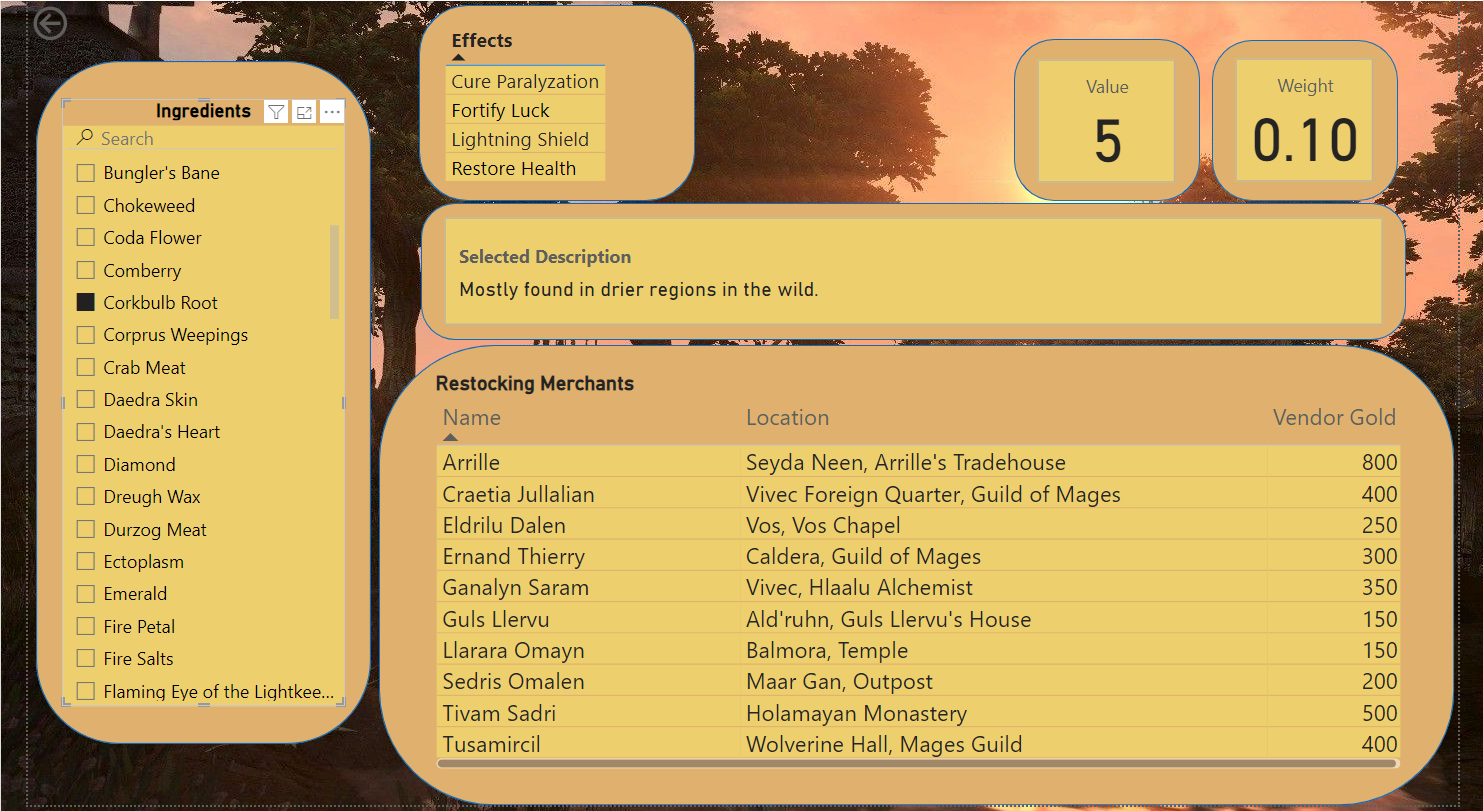

What the dashboard file says about the page in this screenshot:
{"tool":"powerbi","page":{"name":"Ingredient Search","canvas":[1280,720],"ordinal":0},"visuals":[{"type":"shape","box":[1060.3,34.9,166.6,144.2],"z":500},{"type":"shape","box":[883,34,166.6,145.1],"z":1000},{"type":"shape","box":[350.1,3.6,247.2,175.5],"z":2000},{"type":"shape","box":[351.9,180.9,882.1,122.7],"z":3000},{"type":"shape","box":[313.9,307.7,963,412.3],"z":4000},{"type":"shape","box":[7.2,53.7,300,611.6],"z":5000},{"type":"slicer","title":"Ingredients","fields":{"Values":["ingredients.name"]},"box":[30.4,87.8,253.4,543.6],"z":6000},{"type":"tableEx","fields":{"Values":["effects.effect_name"]},"box":[368.1,16.1,214.9,150.4],"z":7000},{"type":"cardVisual","fields":{"Data":["ingredients.Selected Value"]},"box":[899.1,47.5,133.4,120],"z":8000},{"type":"cardVisual","fields":{"Data":["ingredients.Selected weight"]},"box":[1076.4,46.6,133.4,120],"z":9000},{"type":"cardVisual","fields":{"Data":["ingredients.Selected Description"]},"box":[368.1,189,850.7,106.6],"z":10000},{"type":"tableEx","title":"Restocking Merchants","fields":{"Values":["merchants.name","merchants.location","merchants.vendor_gold"]},"box":[360,331.6,874.3,360.9],"z":11000},{"type":"actionButton","box":[0,0,100,40],"z":12000}]}

Visuals, with their boxes in screenshot pixels (x1, y1, x2, y2), scaled from the page's 1280x720 canvas onto the 1483x811 screenshot:
shape: pyautogui.locateOnScreen(1228, 39, 1421, 202)
shape: pyautogui.locateOnScreen(1023, 38, 1216, 202)
shape: pyautogui.locateOnScreen(406, 4, 692, 202)
shape: pyautogui.locateOnScreen(408, 204, 1430, 342)
shape: pyautogui.locateOnScreen(364, 347, 1479, 810)
shape: pyautogui.locateOnScreen(8, 60, 356, 749)
"Ingredients" slicer: pyautogui.locateOnScreen(35, 99, 329, 711)
tableEx - effects.effect_name: pyautogui.locateOnScreen(426, 18, 675, 188)
cardVisual - ingredients.Selected Value: pyautogui.locateOnScreen(1042, 54, 1196, 189)
cardVisual - ingredients.Selected weight: pyautogui.locateOnScreen(1247, 52, 1402, 188)
cardVisual - ingredients.Selected Description: pyautogui.locateOnScreen(426, 213, 1412, 333)
"Restocking Merchants" tableEx: pyautogui.locateOnScreen(417, 374, 1430, 780)
actionButton: pyautogui.locateOnScreen(0, 0, 116, 45)
